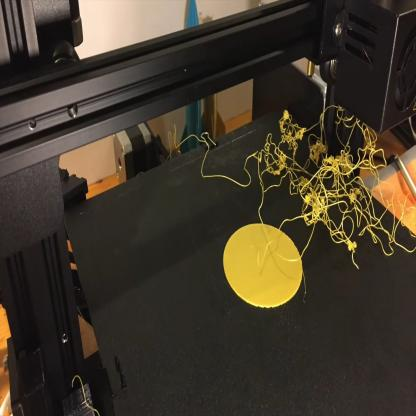fail: (254, 115, 416, 275)
